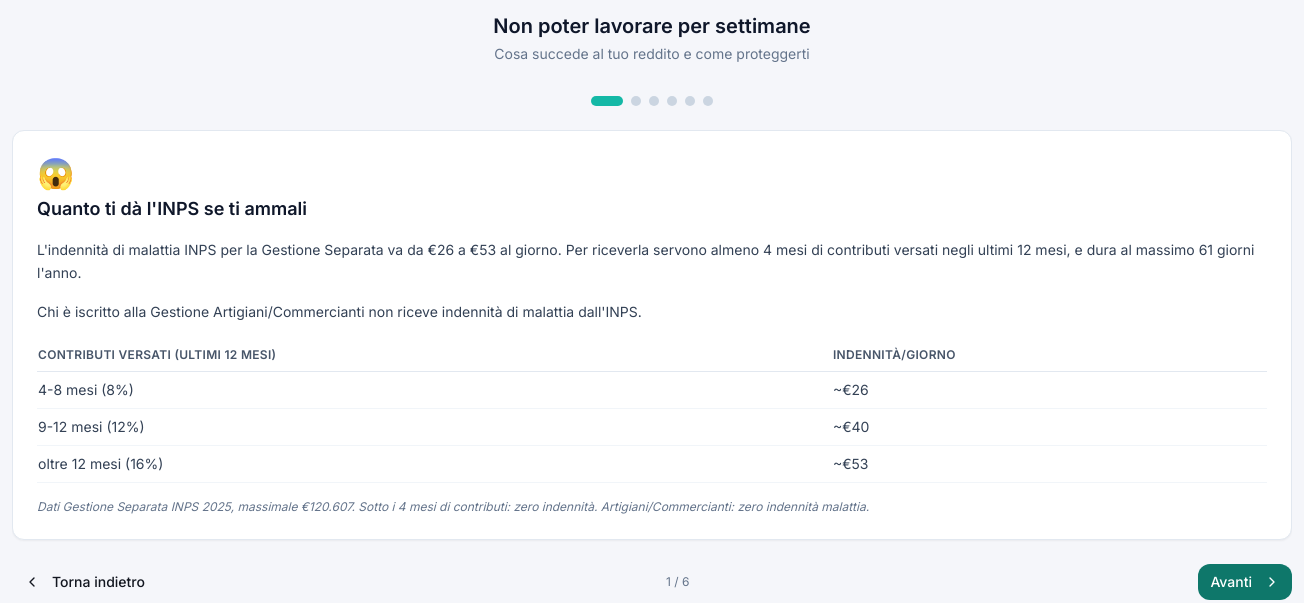
Scenario: PercorsoInfortuni › naviga attraverso tutte e 6 le schede
Expected: the text "1 / 6" is shown, [666,574,689,590]
Note: Naviga alle schede successive
Click the button "Avanti" at {"x": 1245, "y": 582}, box [1198,564,1292,600]
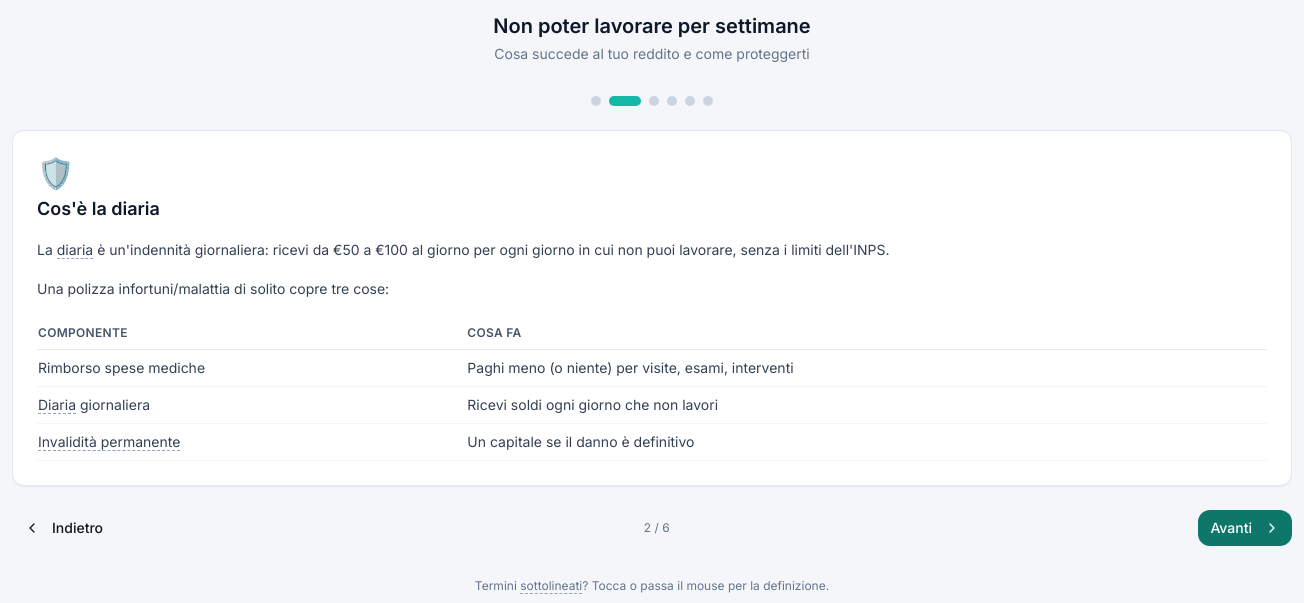
Expected: the text "2 / 6" is shown, [644,520,670,536]
Expected: the heading "Cos'è la diaria" is shown, [37,198,160,219]
Click the button "Avanti" at {"x": 1245, "y": 528}, box [1198,510,1292,546]
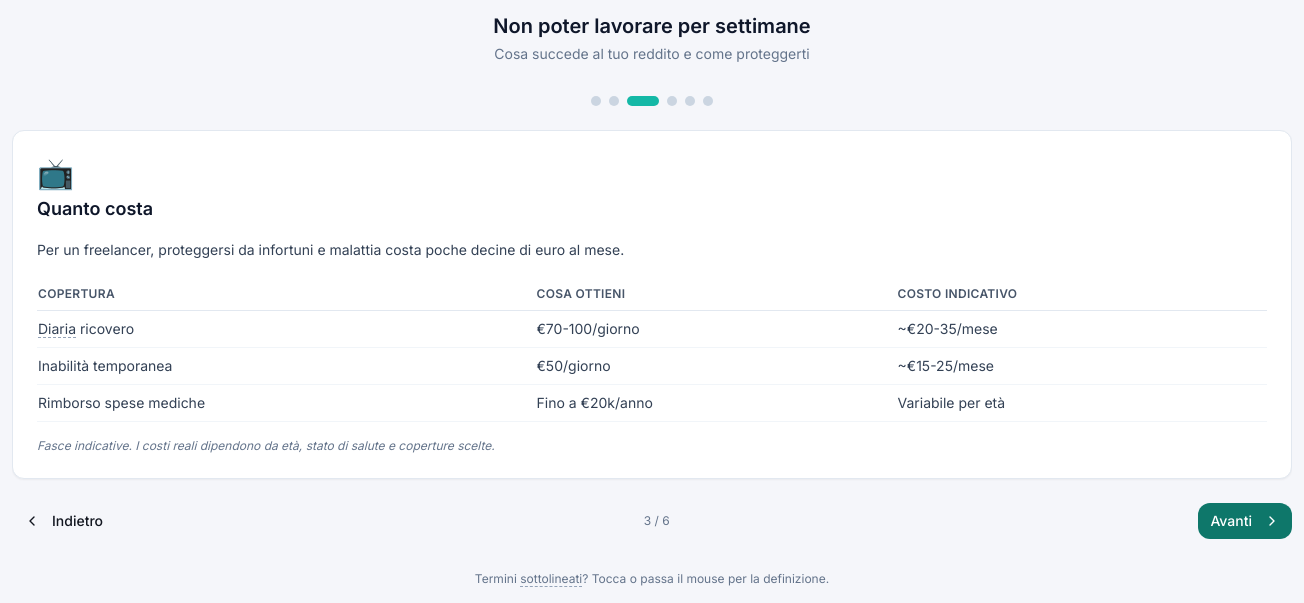
Expected: the text "3 / 6" is shown, [644,513,670,529]
Click the button "Avanti" at {"x": 1245, "y": 521}, box [1198,503,1292,539]
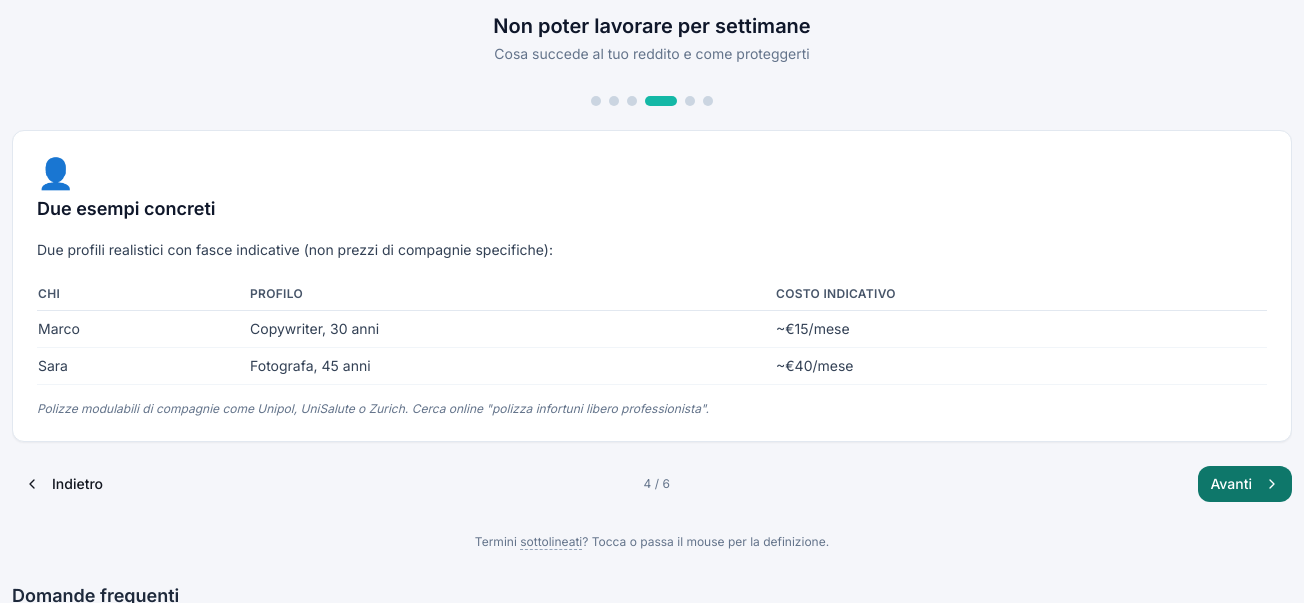
Expected: the text "4 / 6" is shown, [644,476,670,492]
Click the button "Avanti" at {"x": 1245, "y": 484}, box [1198,466,1292,502]
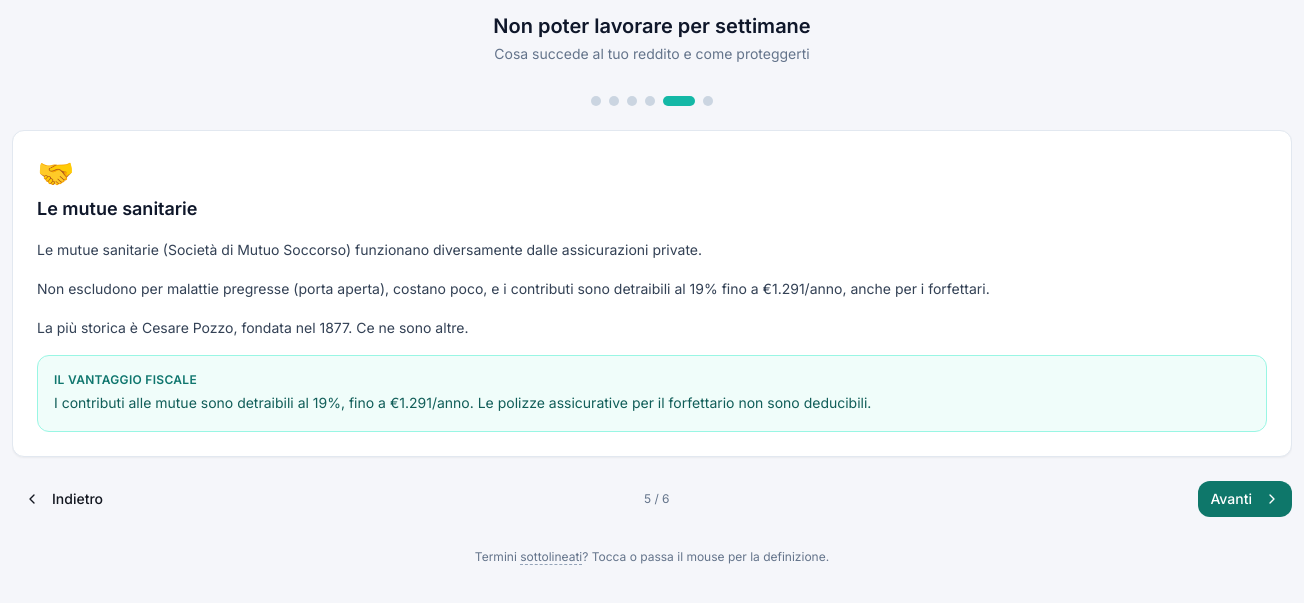
Expected: the text "5 / 6" is shown, [644,491,670,507]
Expected: the heading "Le mutue sanitarie" is shown, [37,198,198,219]
Click the button "Avanti" at {"x": 1245, "y": 499}, box [1198,481,1292,517]
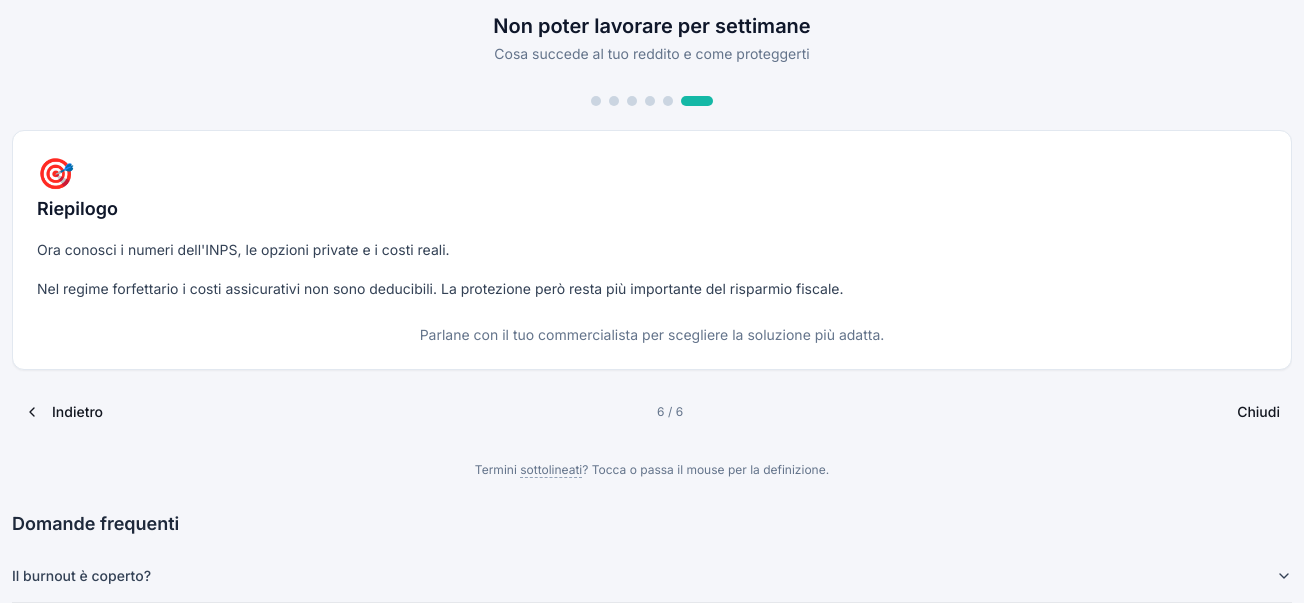
Expected: the text "6 / 6" is shown, [657,404,683,420]
Expected: the heading "Riepilogo" is shown, [37,198,118,219]
